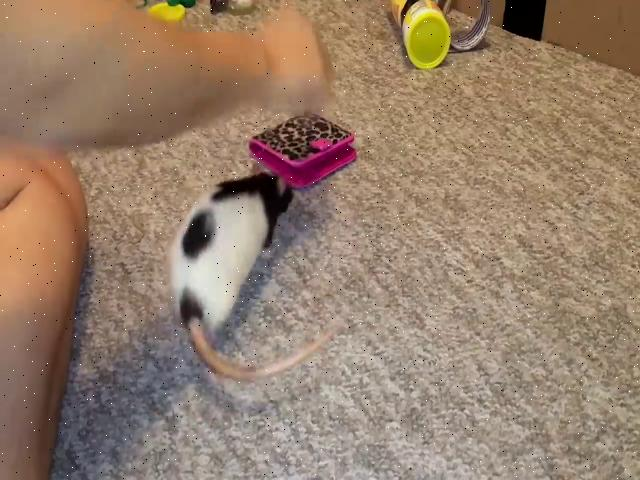Tikus: (171, 168, 295, 334)
